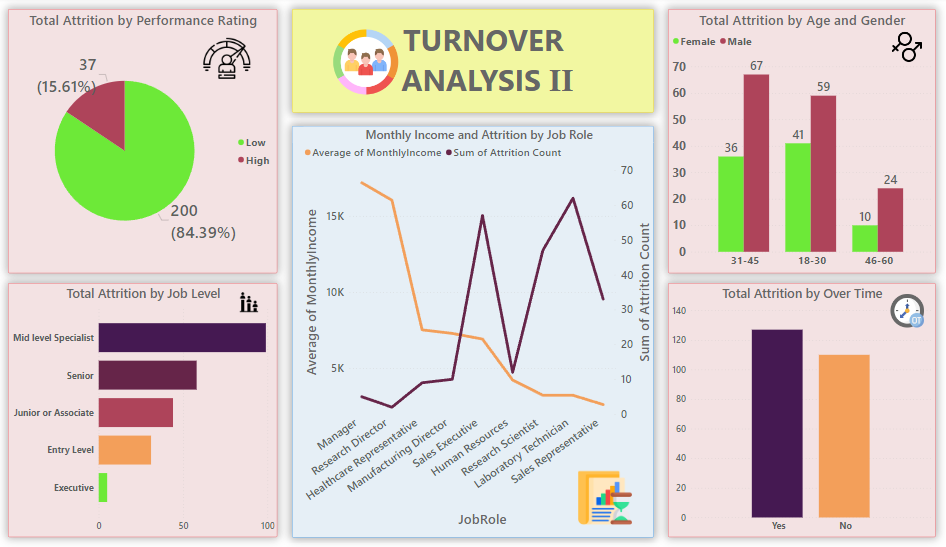

What the dashboard file says about the page in this screenshot:
{"tool":"powerbi","page":{"name":"Page 4","canvas":[1700,990],"ordinal":3},"visuals":[{"type":"textbox","box":[525.9,22.2,646.3,185.2],"z":0},{"type":"image","box":[592.6,38.9,131.5,151.9],"z":1000},{"type":"clusteredColumnChart","title":"Total Attrition by Age and Gender","fields":{"Category":["HR-Employee-Attrition.Age (groups)"],"Series":["HR-Employee-Attrition.Gender"],"Y":["Sum(HR-Employee-Attrition.Attrition Count)"]},"box":[1198.1,22.2,477.8,472.2],"z":2000},{"type":"pieChart","title":"Total Attrition by Performance Rating","fields":{"Y":["Sum(HR-Employee-Attrition.Attrition Count)"],"Category":["HR-Employee-Attrition.PerformanceRating (groups)"]},"box":[20.4,22.2,481.5,472.2],"z":3000},{"type":"barChart","title":"Total Attrition by Job Level","fields":{"Category":["HR-Employee-Attrition.Education (groups)"],"Y":["Sum(HR-Employee-Attrition.Attrition Count)"]},"box":[20.4,511.1,481.5,453.7],"z":4000},{"type":"lineChart","title":"Monthly Income and Attrition by Job Role","fields":{"Category":["HR-Employee-Attrition.JobRole"],"Y":["Avg(HR-Employee-Attrition.MonthlyIncome)"],"Y2":["Sum(HR-Employee-Attrition.Attrition Count)"]},"box":[525.9,229.6,646.3,735.2],"z":5000},{"type":"clusteredColumnChart","title":"Total Attrition by Over Time","fields":{"Category":["HR-Employee-Attrition.OverTime"],"Y":["Sum(HR-Employee-Attrition.Attrition Count)"]},"box":[1198.1,511.1,477.8,453.7],"z":6000},{"type":"image","box":[1587,524.1,75.9,74.1],"z":7000},{"type":"image","box":[1018.5,840.7,135.2,105.6],"z":8000},{"type":"image","box":[409.3,518.5,81.5,53.7],"z":9000},{"type":"image","box":[355.6,63,109.3,94.4],"z":10000},{"type":"image","box":[1590.7,55.6,66.7,66.7],"z":11000}]}

Visuals, with their boxes in screenshot pixels (x1, y1, x2, y2), scaled from the page's 1700x990 canvas onto the 946x547 screenshot:
textbox: <bbox>293, 12, 652, 115</bbox>
image: <bbox>330, 21, 403, 105</bbox>
"Total Attrition by Age and Gender" clusteredColumnChart: <bbox>667, 12, 933, 273</bbox>
"Total Attrition by Performance Rating" pieChart: <bbox>11, 12, 279, 273</bbox>
"Total Attrition by Job Level" barChart: <bbox>11, 282, 279, 533</bbox>
"Monthly Income and Attrition by Job Role" lineChart: <bbox>293, 127, 652, 533</bbox>
"Total Attrition by Over Time" clusteredColumnChart: <bbox>667, 282, 933, 533</bbox>
image: <bbox>883, 290, 925, 331</bbox>
image: <bbox>567, 465, 642, 523</bbox>
image: <bbox>228, 286, 273, 316</bbox>
image: <bbox>198, 35, 259, 87</bbox>
image: <bbox>885, 31, 922, 68</bbox>
